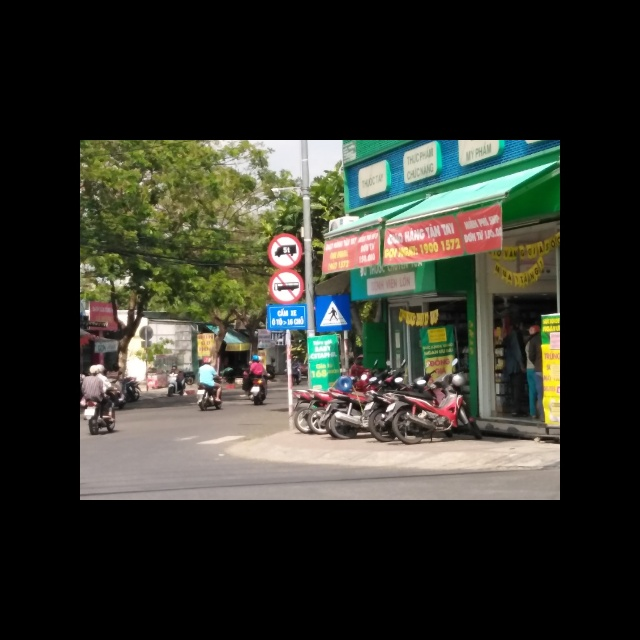Cấm xe tải: (267, 234, 303, 270)
Cấm xe xe khách: (268, 269, 305, 306)
Đường dành cho người đi bộ: (315, 295, 352, 332)
